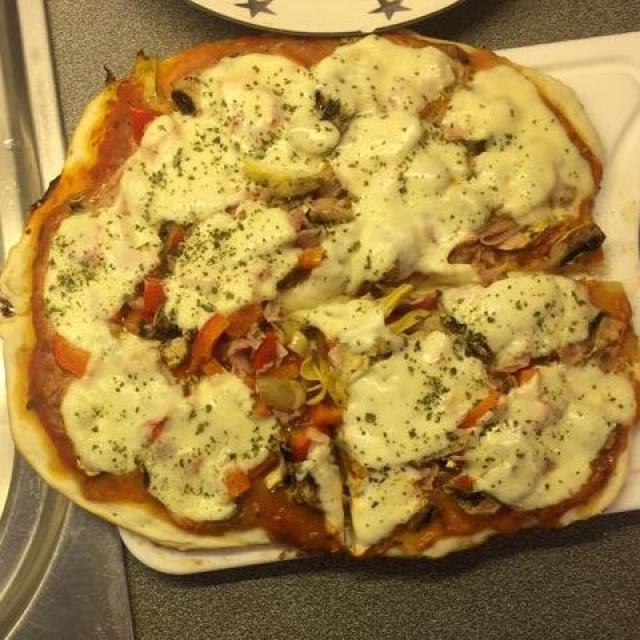ham: (222, 219, 558, 374)
pizza: (10, 42, 617, 560)
